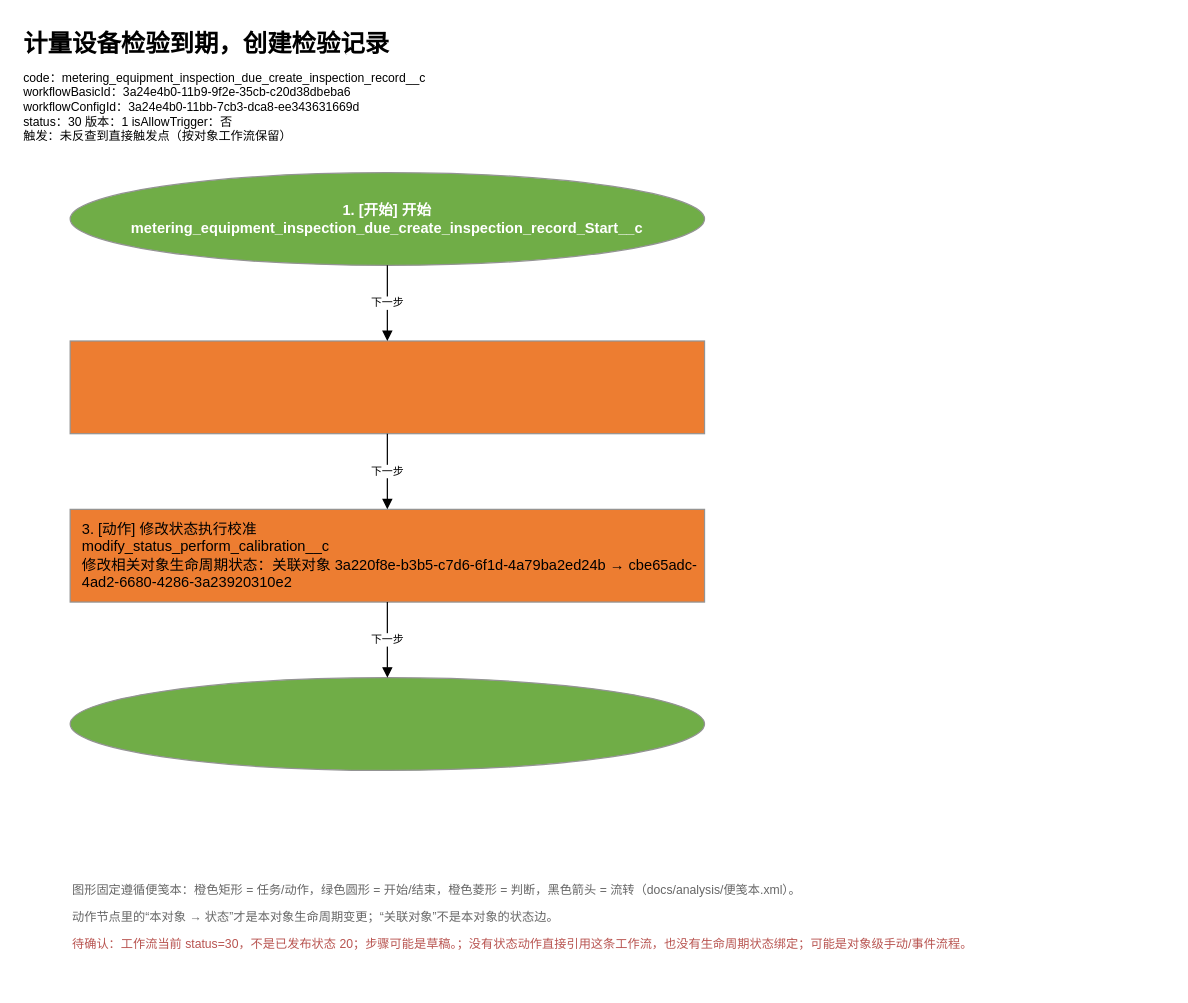
This 1188x1003 diagram has some shape labels left out. Here are the shapes that lost their labels. From the top down, the centre of each, then its label:
At point (387, 387): "2. [动作] 创建校准记录 create_calibration_records__c 行为 36".
At point (387, 723): "4. [结束] 结束 metering_equipment_inspection_due_create_inspection_record_End__c".
